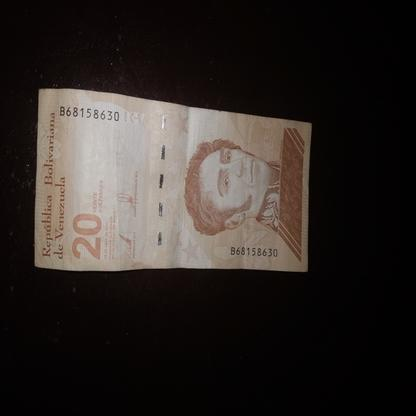twenty-front-vef: (33, 88, 312, 272)
